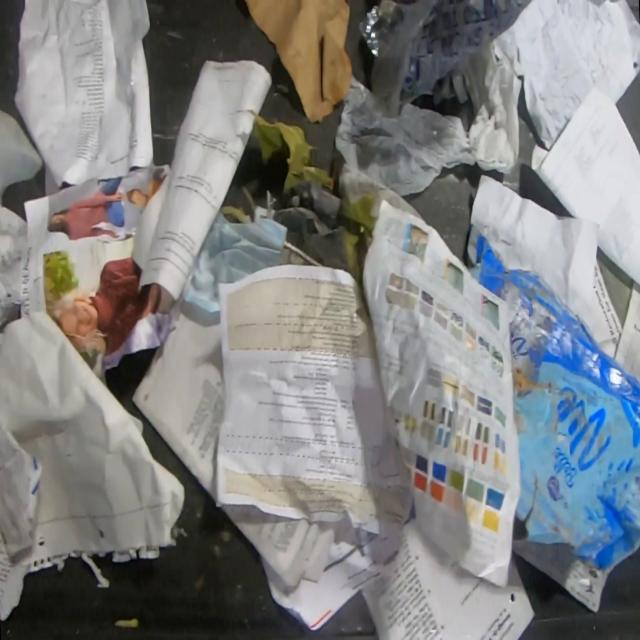cardboard: (462, 225, 640, 576)
soft_plastic: (333, 0, 532, 198), (0, 112, 41, 199)
